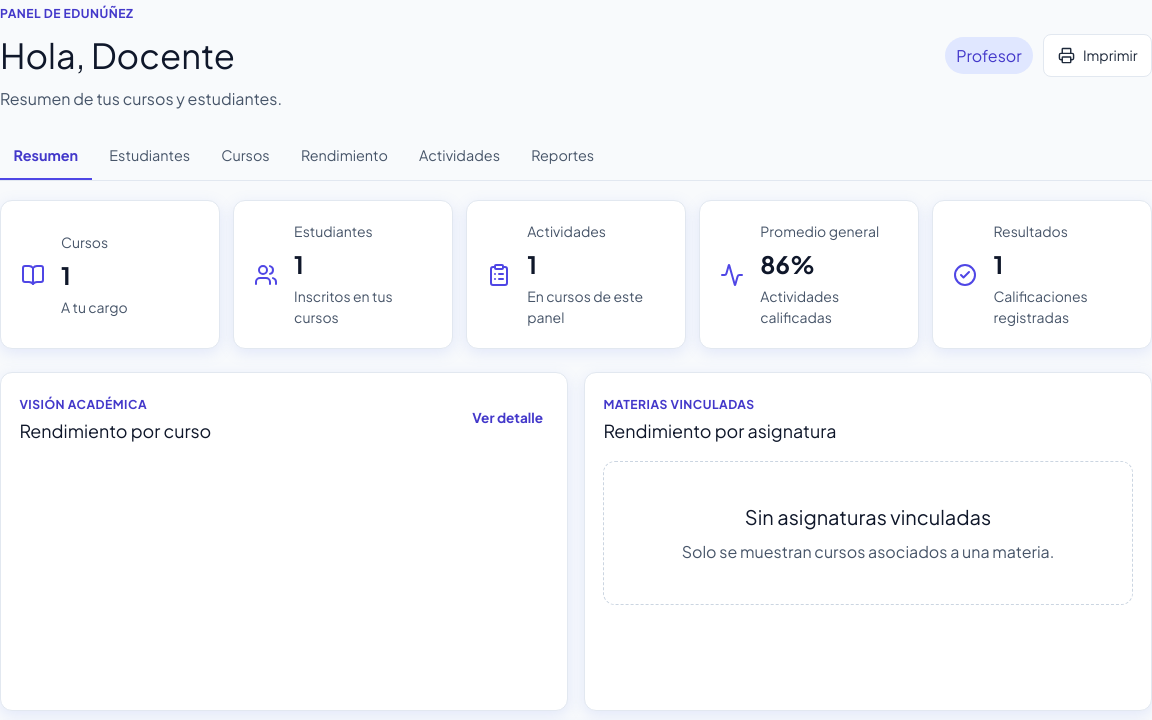
Test: DashboardStaff › presenta las métricas y vistas del profesor
The image size is (1152, 720).
Expected: the text "Inscritos en tus cursos" is shown, [294,287,393,326]
Click the button "Actividades" at (459, 156), box [405,133,514,180]
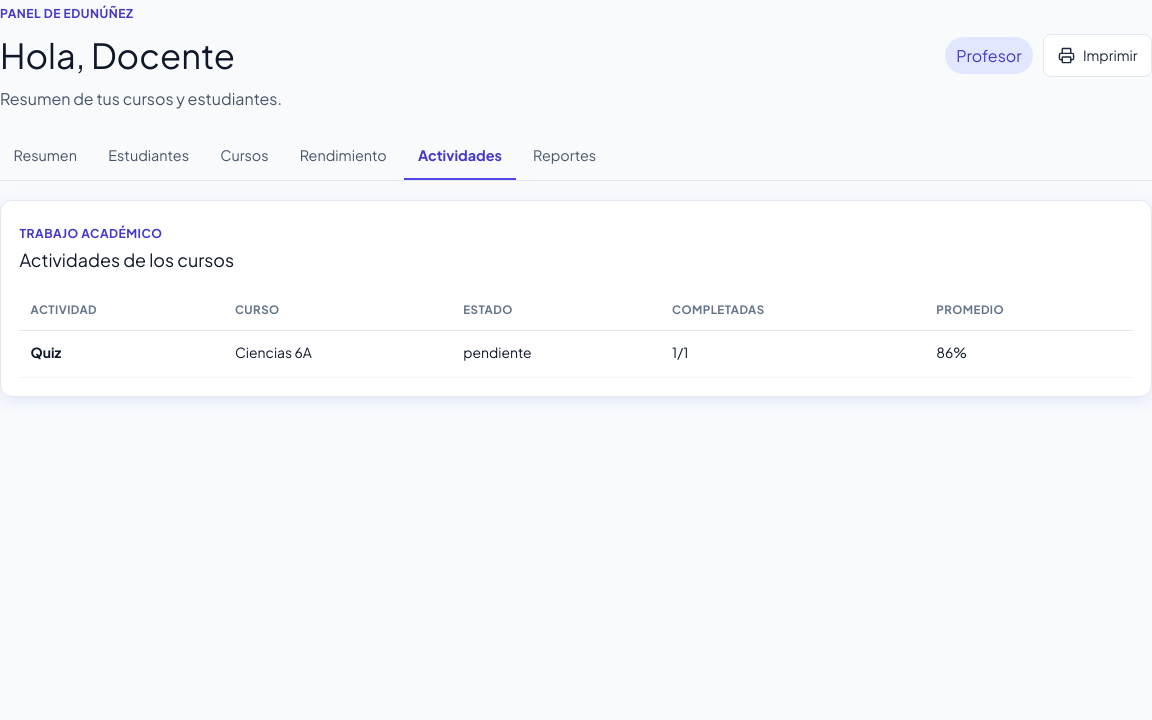
Result: the text "Quiz" is shown at [31,344,61,361]
